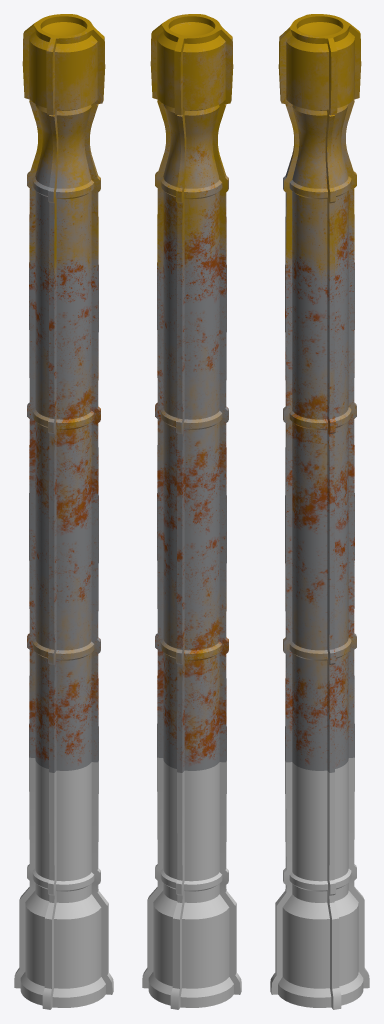
Rendered from BeamV10-also with textures.fbx.
The picture shows the model from 3 angles, left to right: view 1: azimuth 30°, elevation 25°; view 2: azimuth 210°, elevation 25°; view 3: azimuth 330°, elevation 25°; orthographic projection.
Parts seen in each view (by area): view 1: Beam Top, Beam Bottom, Beam Mid, Beam Mid.001; view 2: Beam Top, Beam Bottom, Beam Mid, Beam Mid.001; view 3: Beam Top, Beam Bottom, Beam Mid, Beam Mid.001.
Part boxes in pixels (x1,y1,x2,y2): Beam Top: (22, 14, 105, 311); Beam Bottom: (14, 757, 113, 1009); Beam Mid: (27, 296, 100, 542); Beam Mid.001: (27, 527, 100, 772); Beam Top: (150, 14, 233, 311); Beam Bottom: (142, 757, 241, 1009); Beam Mid: (155, 296, 228, 542); Beam Mid.001: (155, 527, 228, 772); Beam Top: (278, 14, 361, 311); Beam Bottom: (270, 757, 369, 1009); Beam Mid: (283, 296, 356, 542); Beam Mid.001: (283, 527, 356, 772).
Bounding box in the file's own units: 34.17 × 417 × 34.17.
